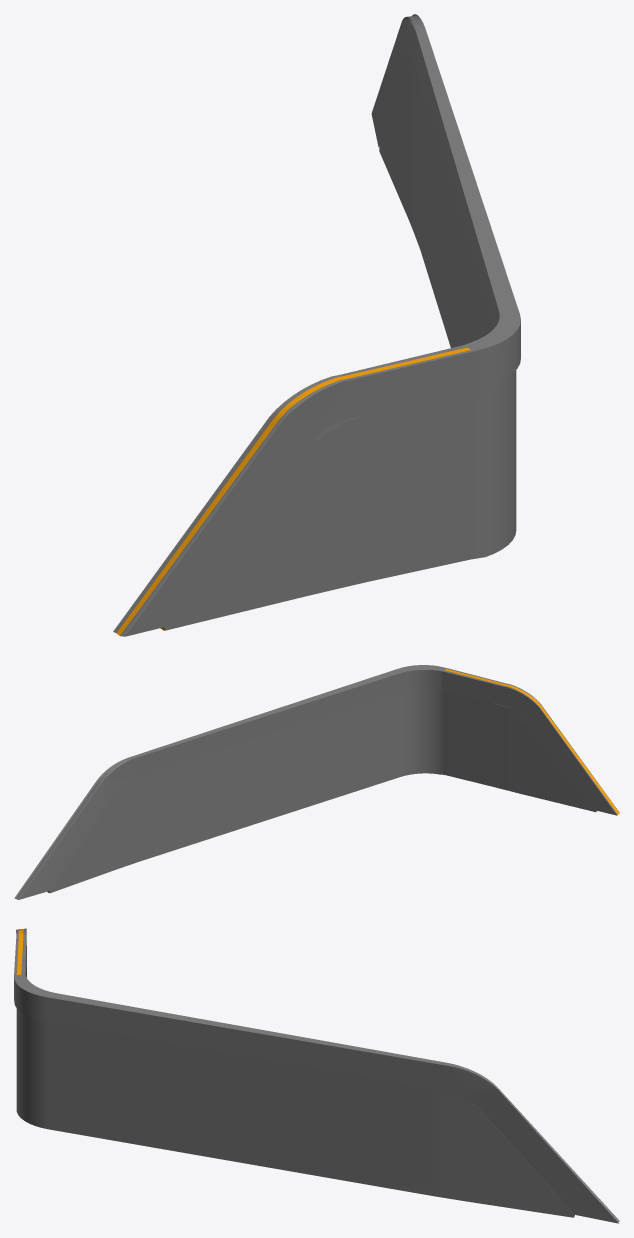
File: SM_FenceLeft.FBX
3 views of the same model, one above another, from view 1: azimuth 30°, elevation 25°; view 2: azimuth 150°, elevation 25°; view 3: azimuth 270°, elevation 25° (orthographic). The views are drawn at different scales.
Parts seen in each view (by area): view 1: SM_FenceLeft_LOD0; view 2: SM_FenceLeft_LOD0; view 3: SM_FenceLeft_LOD0.
Part boxes in pixels (x1,y1,x2,y2): SM_FenceLeft_LOD0: (113,14,520,636); SM_FenceLeft_LOD0: (14,665,619,899); SM_FenceLeft_LOD0: (14,928,619,1223).
Size of what is drawn, in the model's own units: 582 by 159 by 655.
